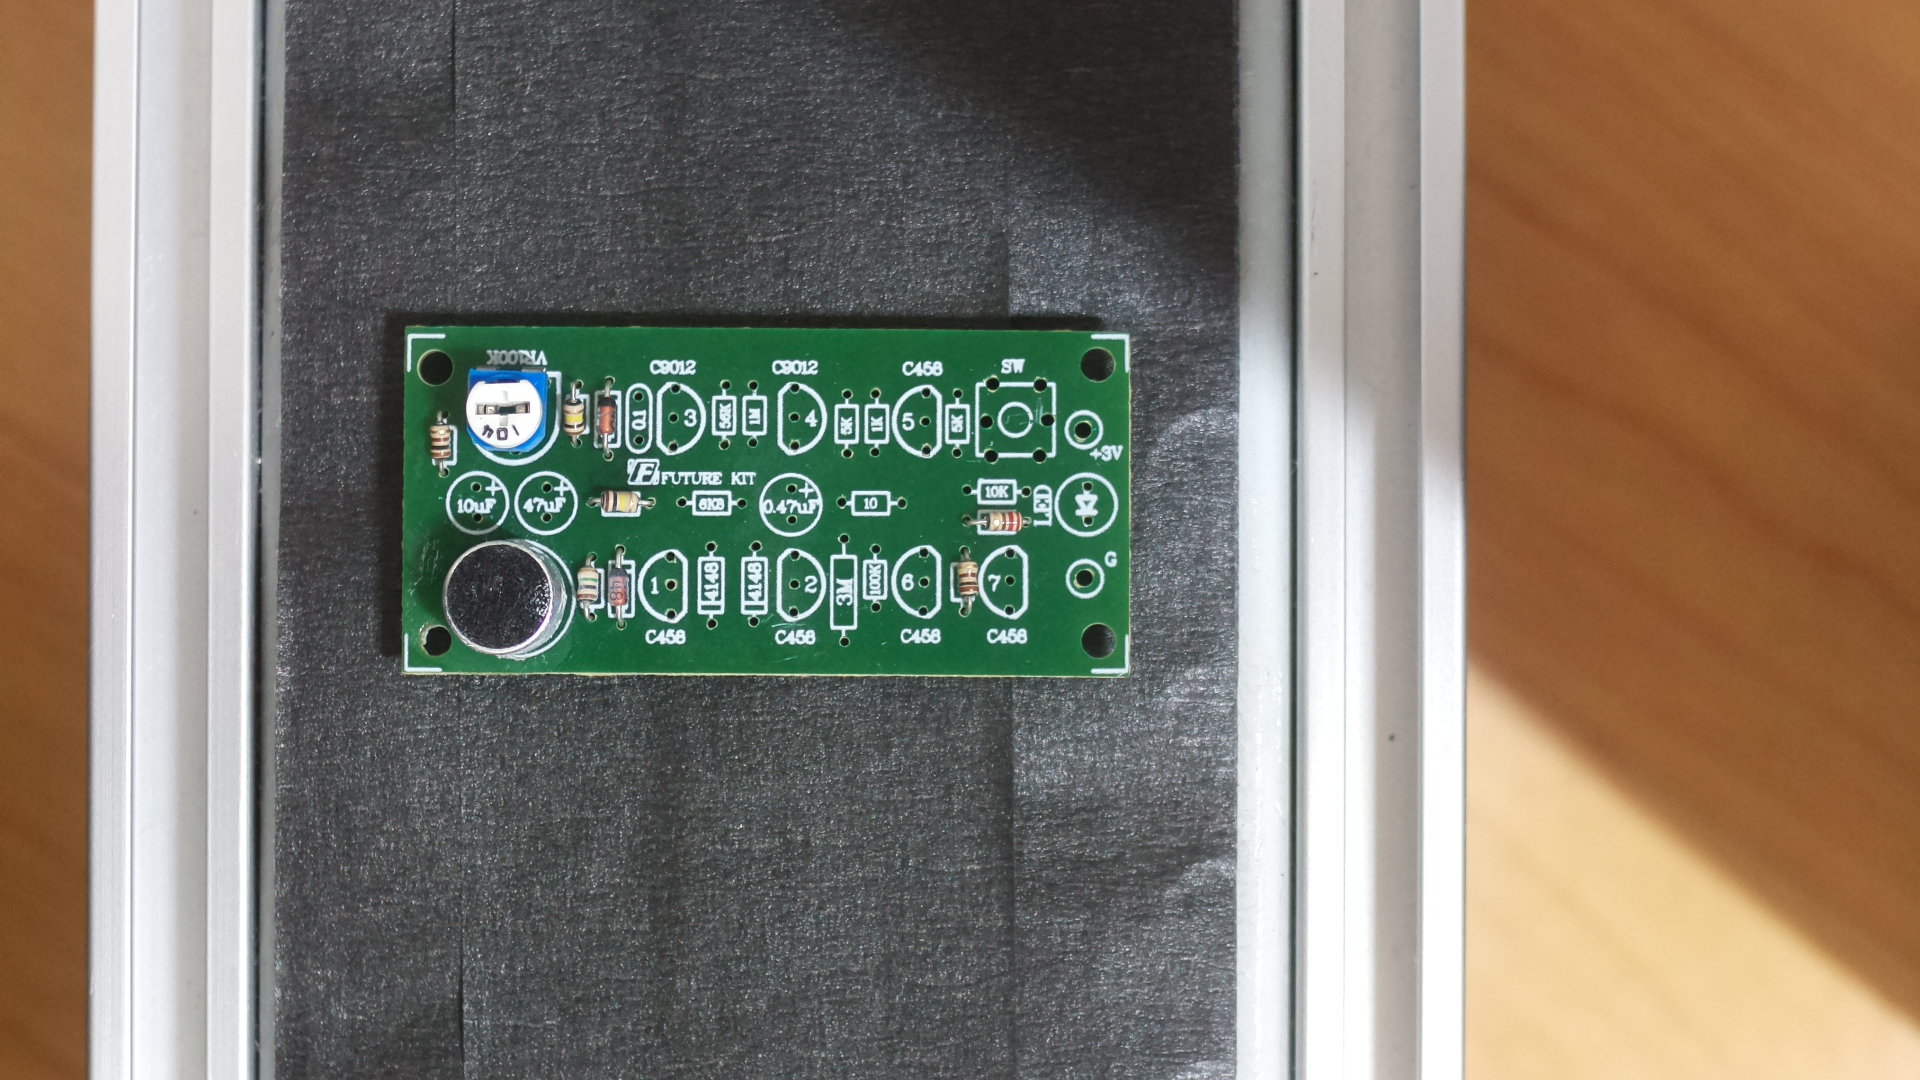A_Missing_part: (396, 313, 1142, 705)
